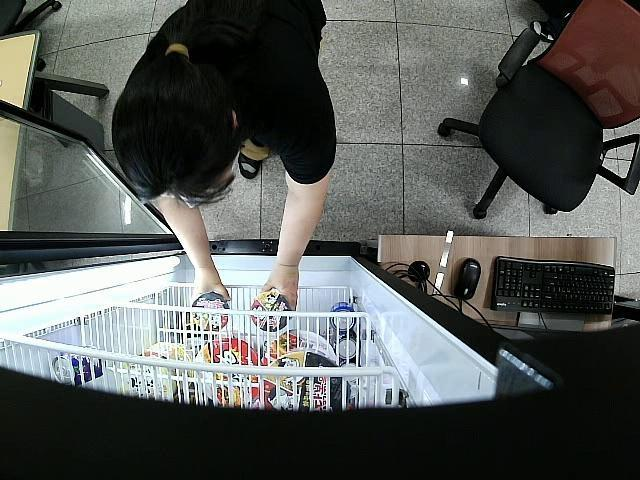08_buldak_S: (190, 290, 227, 331), (253, 290, 287, 329)
